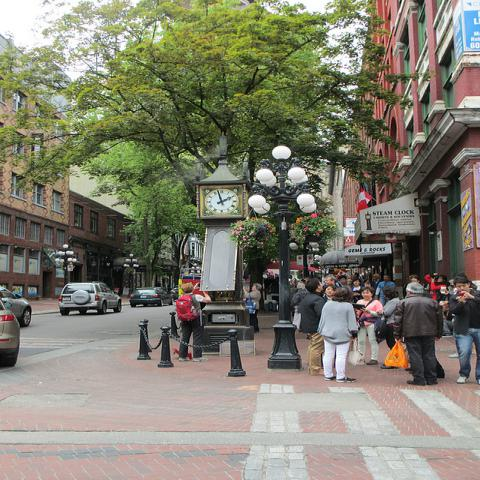car: (58, 282, 122, 315), (0, 284, 36, 326), (0, 298, 20, 367), (128, 287, 174, 307)
